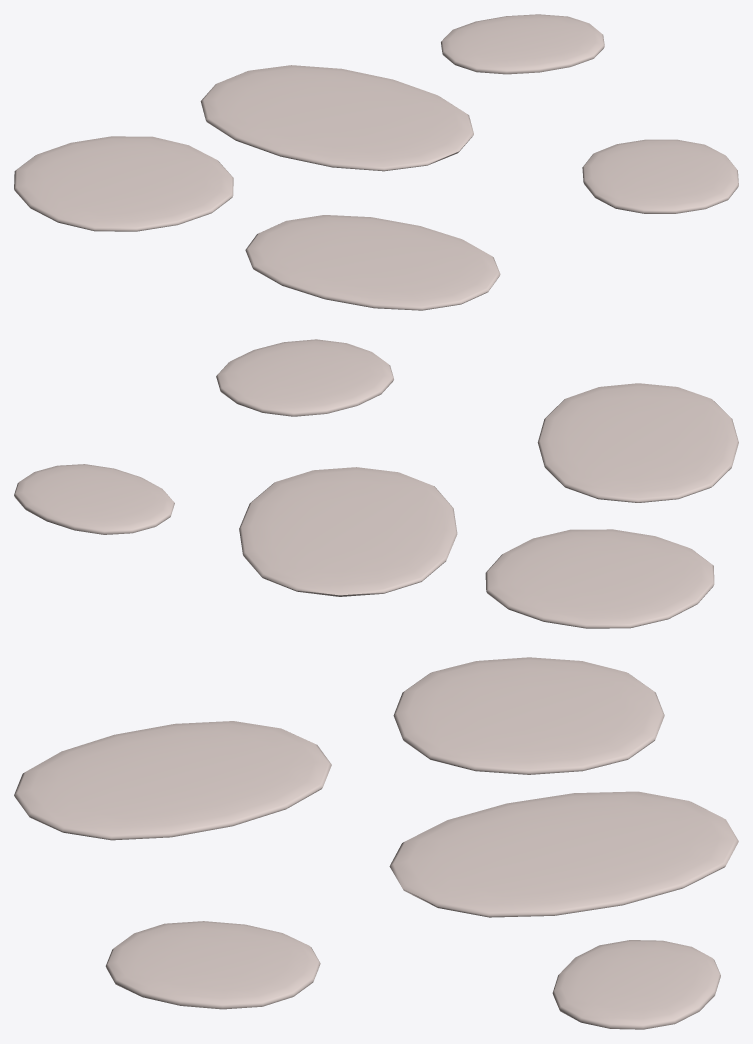
File: Farm_2_Path_2.glb
3 renders of one model, top to bottom at view 1: azimuth 30°, elevation 25°; view 2: azimuth 150°, elevation 25°; view 3: azimuth 270°, elevation 25°, orthographic. The views are drawn at different scales.
Visible parts, largest first — view 1: Farm_2_Path_2; view 2: Farm_2_Path_2; view 3: Farm_2_Path_2.
Part boxes in pixels (x1,y1,x2,y2): Farm_2_Path_2: [14, 14, 738, 310]; Farm_2_Path_2: [14, 339, 738, 628]; Farm_2_Path_2: [14, 657, 738, 1029].
Size of the model in its own units: 1.44 by 0.0171 by 1.2.
1 material, 1 textured.
